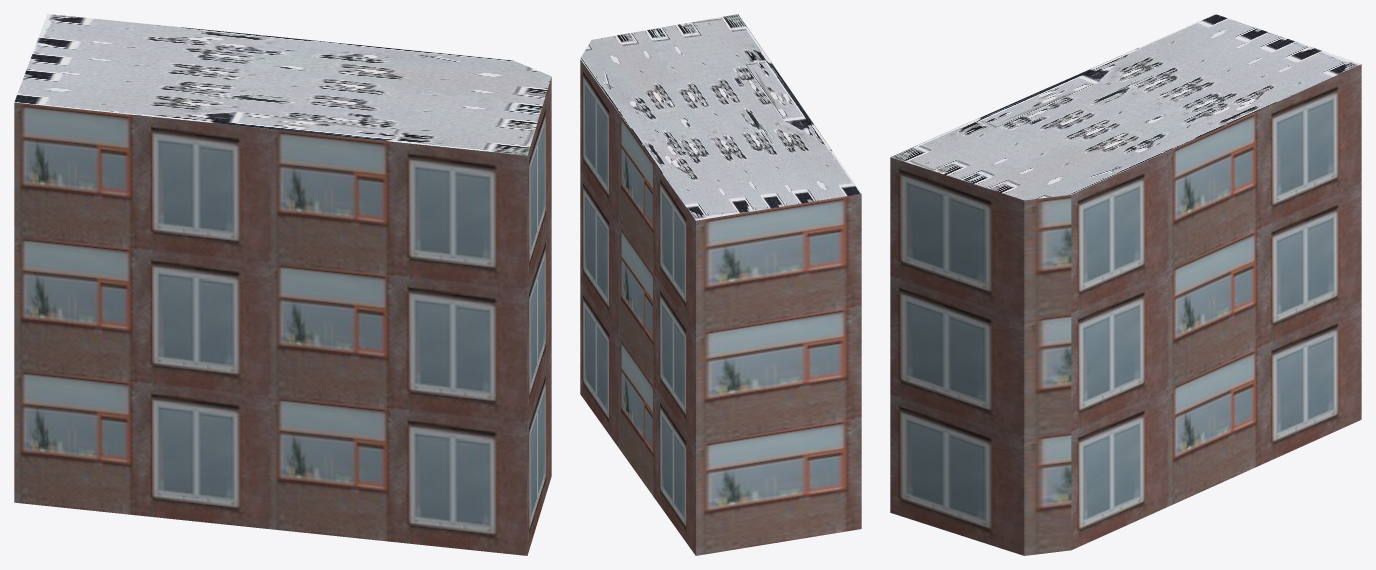
The model's file is ResTex__1416.fbx.
3 renders of one model, left to right at view 1: azimuth 30°, elevation 25°; view 2: azimuth 150°, elevation 25°; view 3: azimuth 270°, elevation 25°, orthographic. The views are drawn at different scales.
Visible parts, largest first — view 1: CityEngineMaterial_19_m, CityEngineMaterial_15_m; view 2: CityEngineMaterial_19_m, CityEngineMaterial_15_m; view 3: CityEngineMaterial_19_m, CityEngineMaterial_15_m.
Part boxes in pixels (x1,y1,x2,y2): CityEngineMaterial_19_m: (14, 77, 551, 555); CityEngineMaterial_15_m: (14, 14, 551, 155); CityEngineMaterial_19_m: (580, 59, 861, 555); CityEngineMaterial_15_m: (580, 14, 861, 220); CityEngineMaterial_19_m: (890, 64, 1361, 555); CityEngineMaterial_15_m: (890, 14, 1361, 200).
Size of the model in its own units: 10.12 by 9 by 10.82.
Materials: 2 (2 with a texture image).
